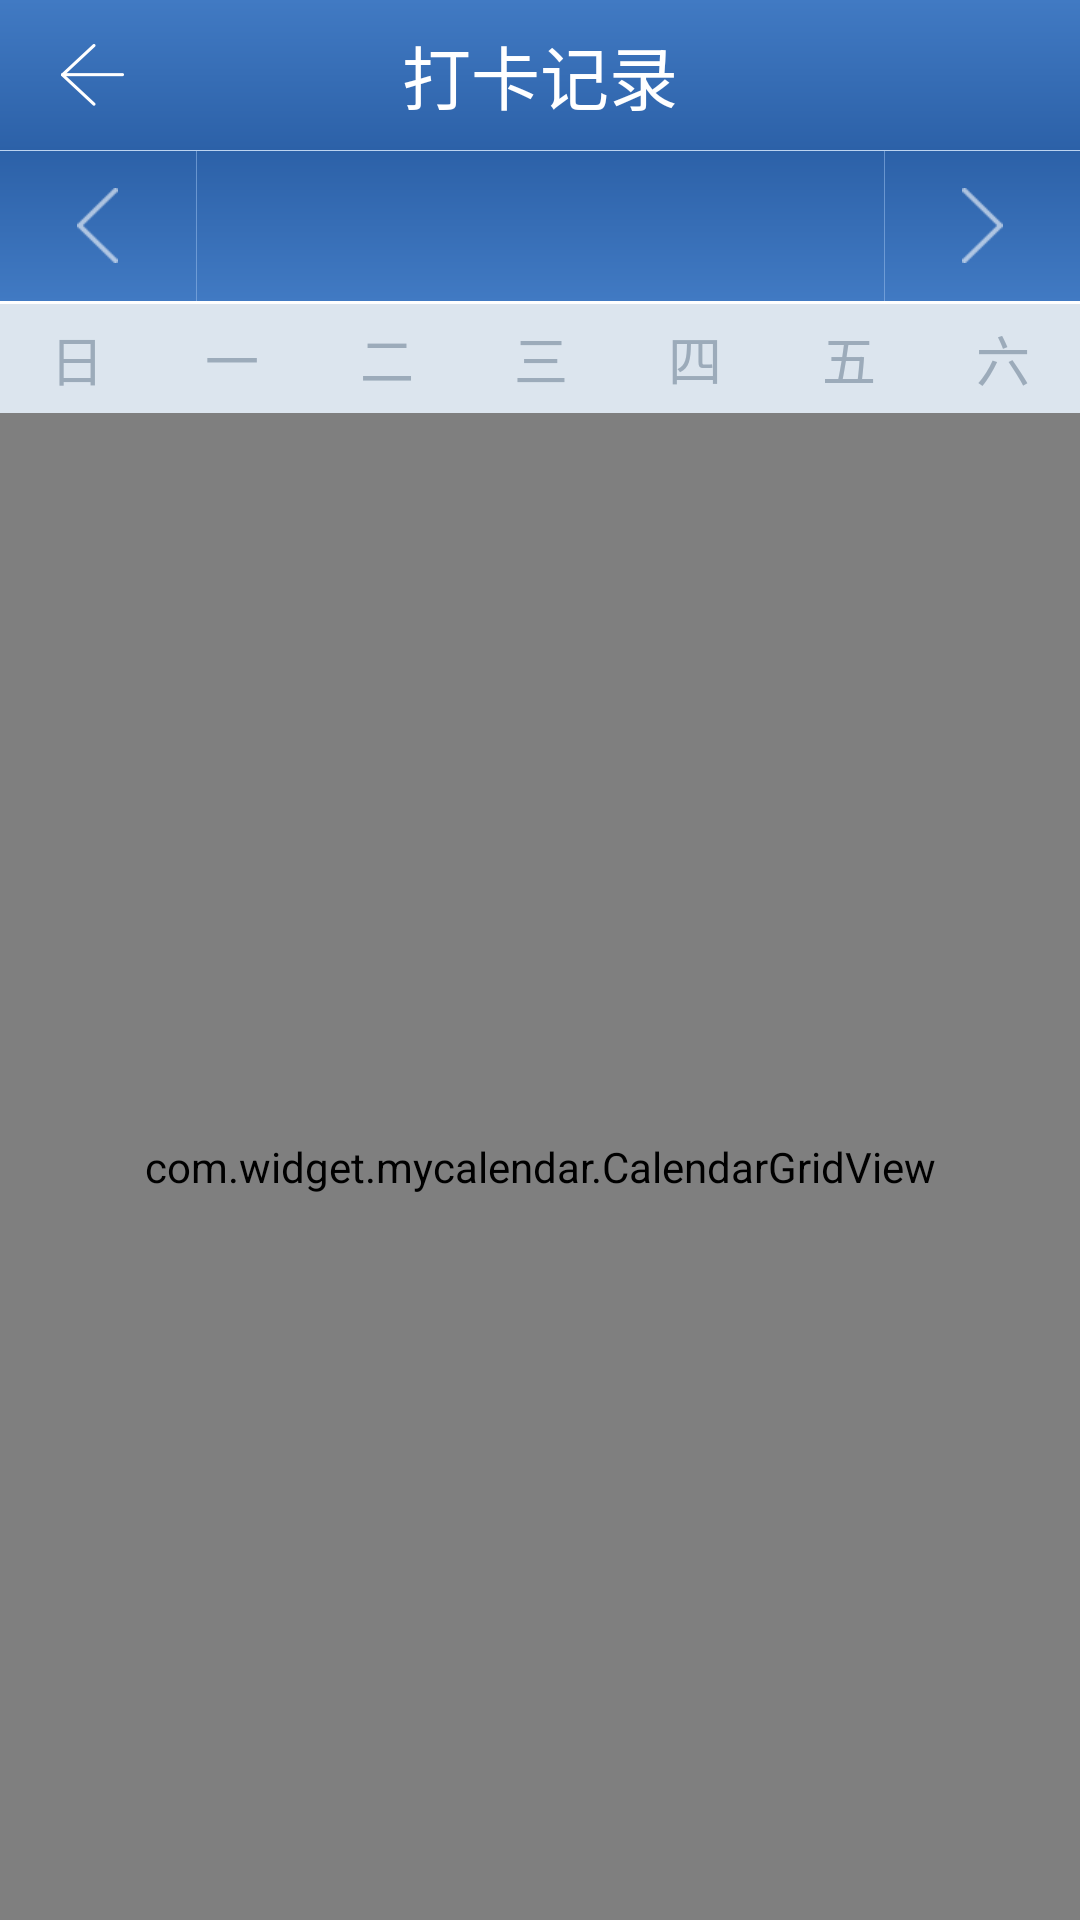

Icon click points for this 1080 × 1920 phone screenshot, format [x,y]:
arrow left: [97,225]
arrow right: [982,225]
back: [92,75]
